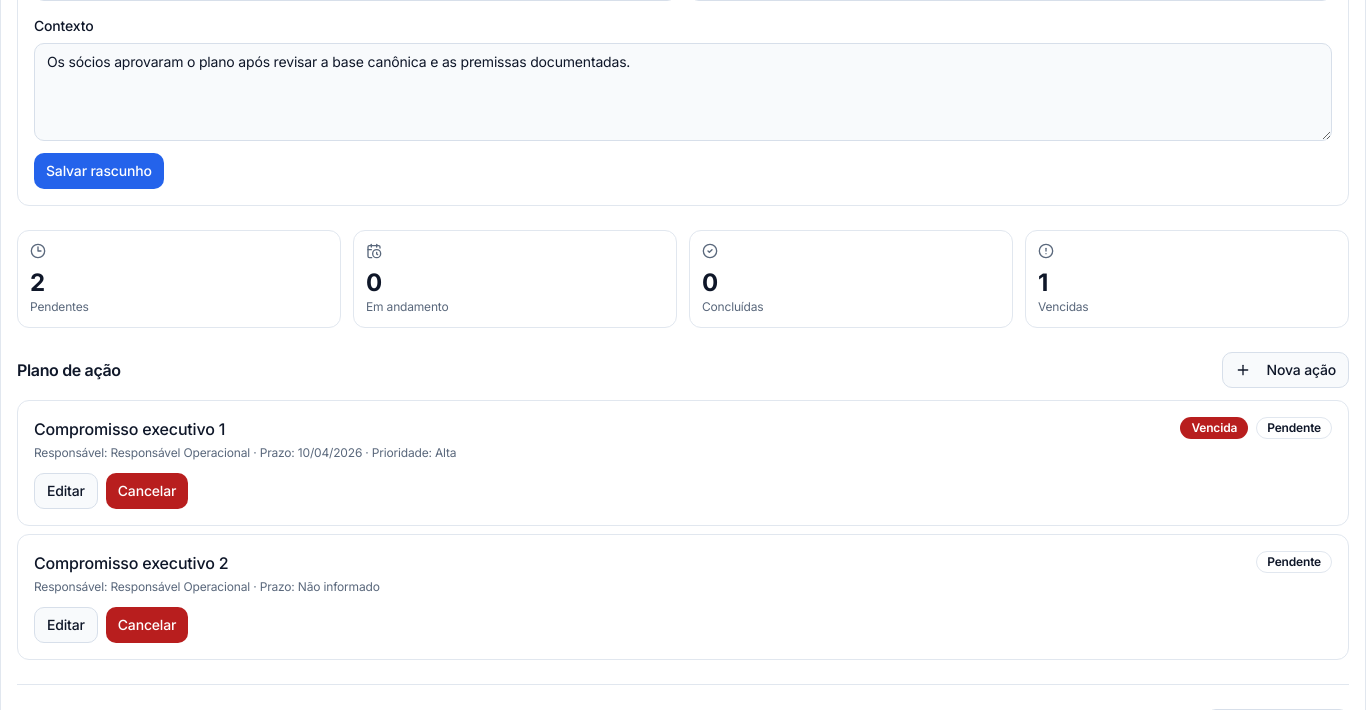
Test: governança executiva da Apresentação Sócios › não usa apenas cor e confirma antes de descartar uma ação editada
The width and height of the screenshot is (1366, 710).
(page scrolled)
Check: the text "Pendentes" is shown, box top-left (30, 299), bottom-right (89, 314)
Check: the text "Vencidas" is shown, box top-left (1038, 299), bottom-right (1088, 314)
Click the button "Nova ação" at (1285, 370), box top-left (1222, 352), bottom-right (1349, 388)
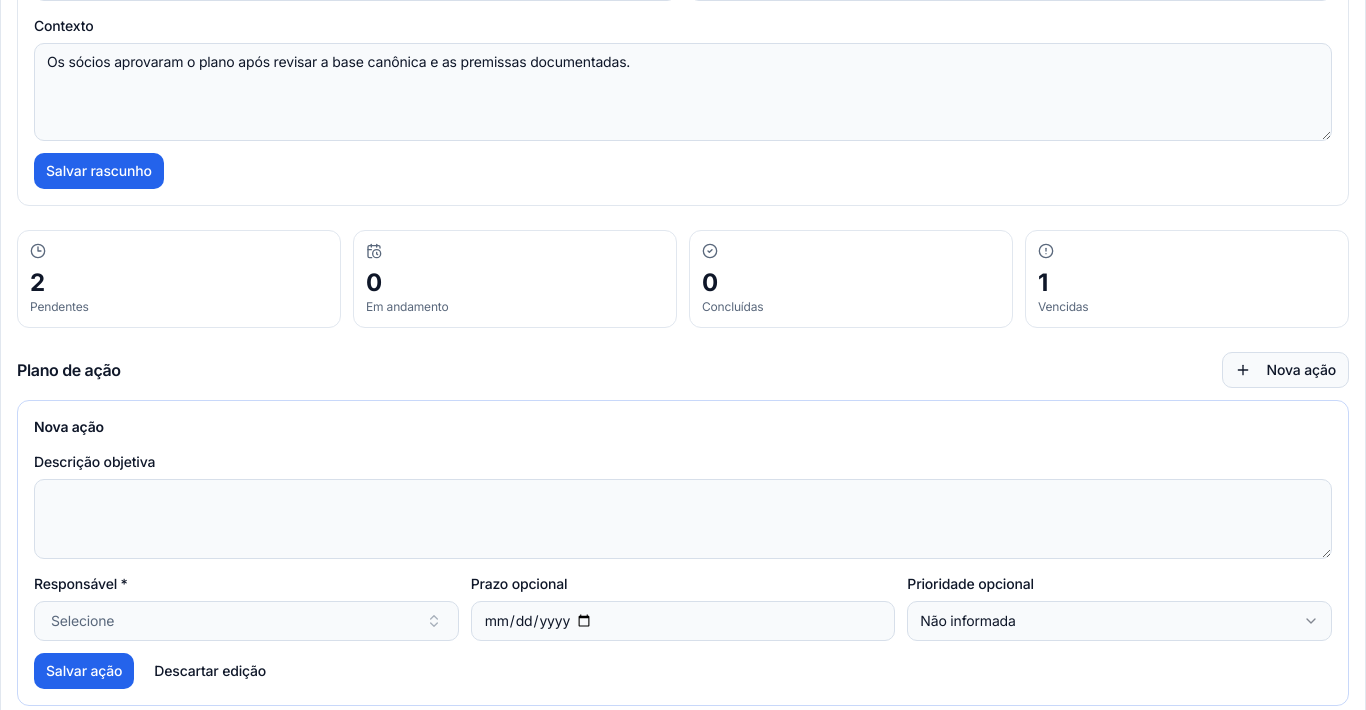
Type "Alteração local ainda não salva" into the text box labelled "Descrição objetiva" at (683, 519), box top-left (34, 479), bottom-right (1332, 559)
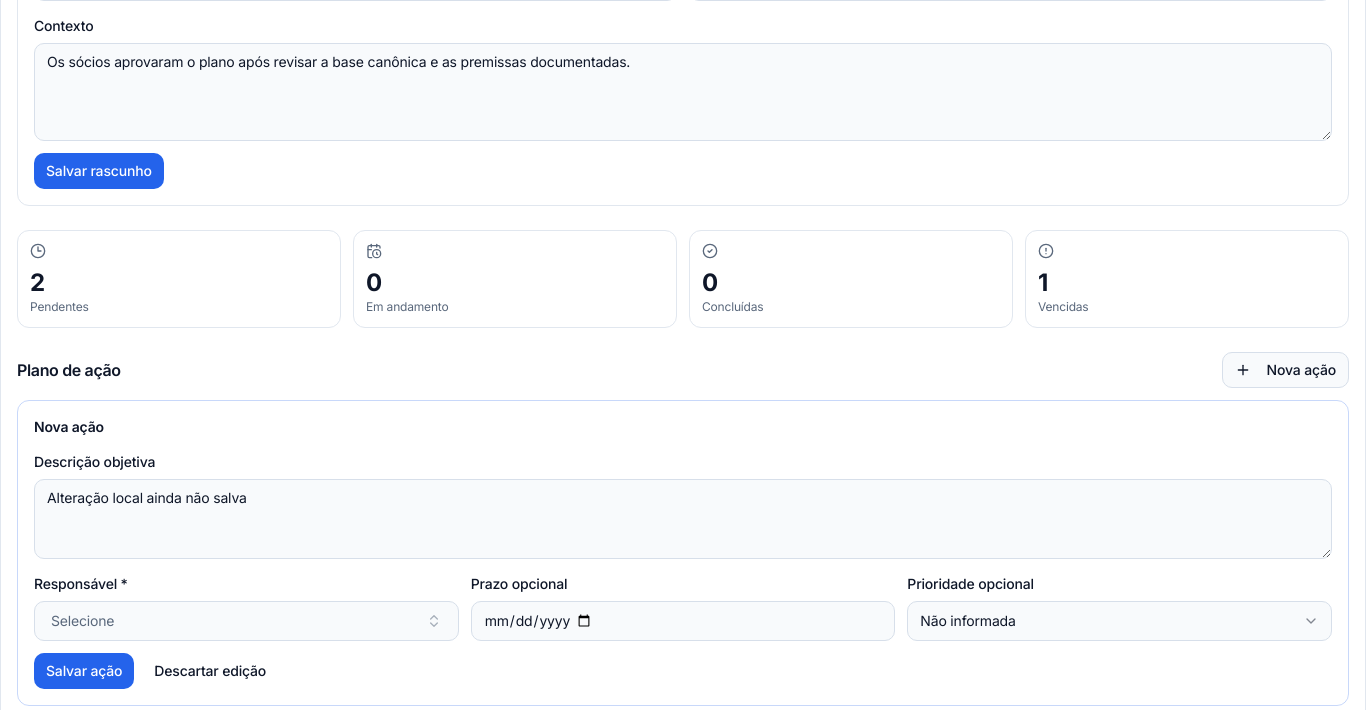
Click the button "Descartar edição" at (210, 671), box top-left (142, 653), bottom-right (278, 689)
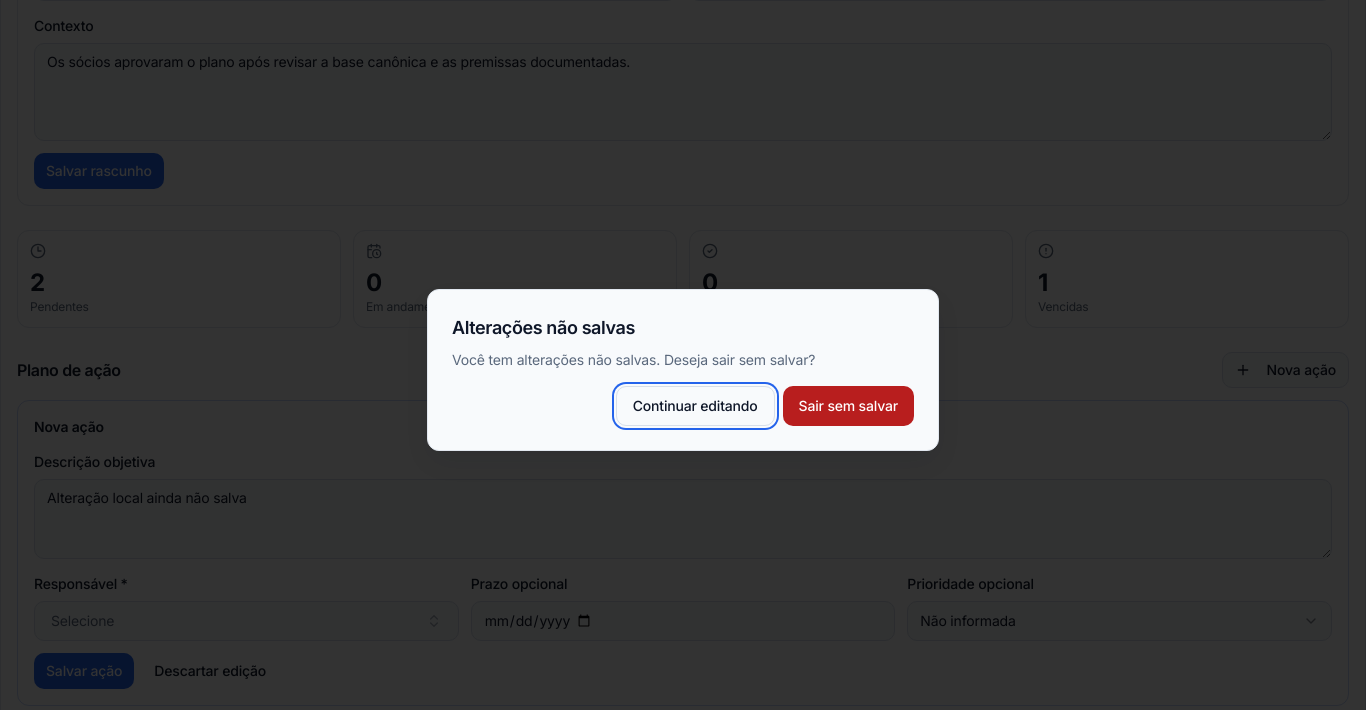
Check: the dialog "Alterações não salvas" is shown, box top-left (427, 289), bottom-right (939, 451)
